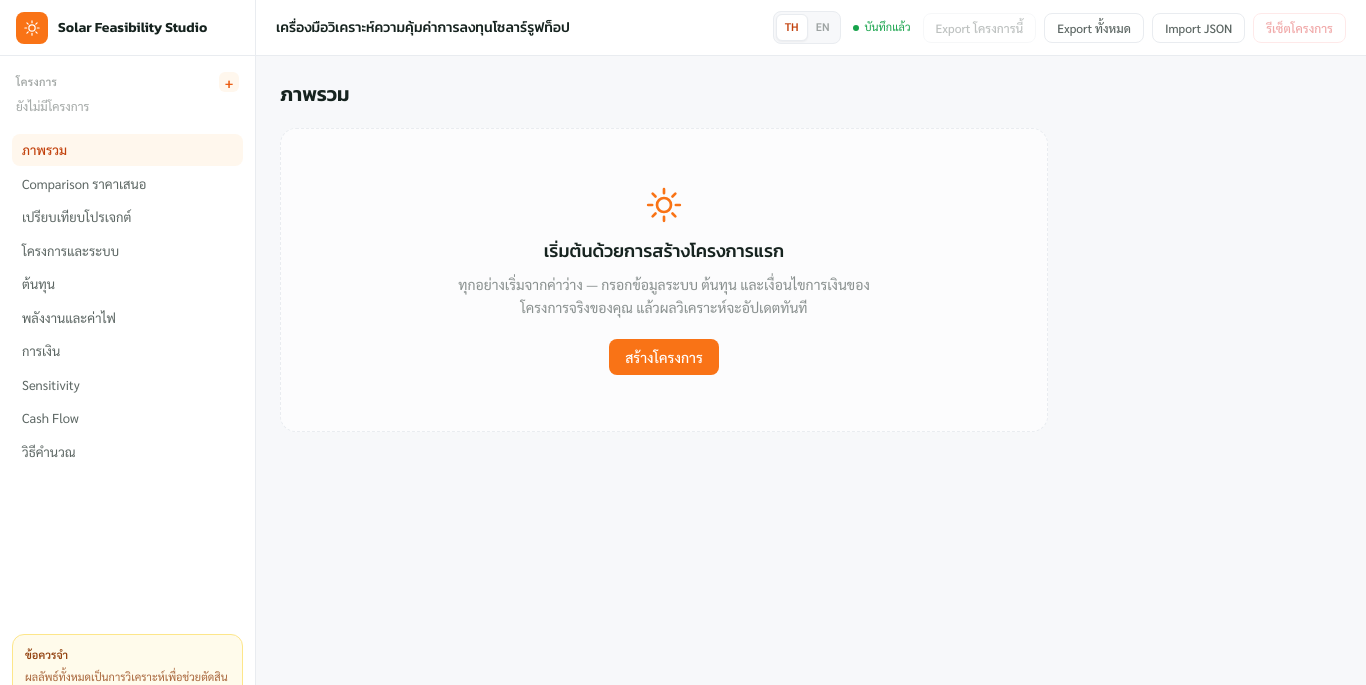
Test: energy page (Phase 4) › switching to interval mode shows the 12-month profile table
Click the button "สร้างโครงการ" at (664, 356), box top-left (609, 338), bottom-right (719, 374)
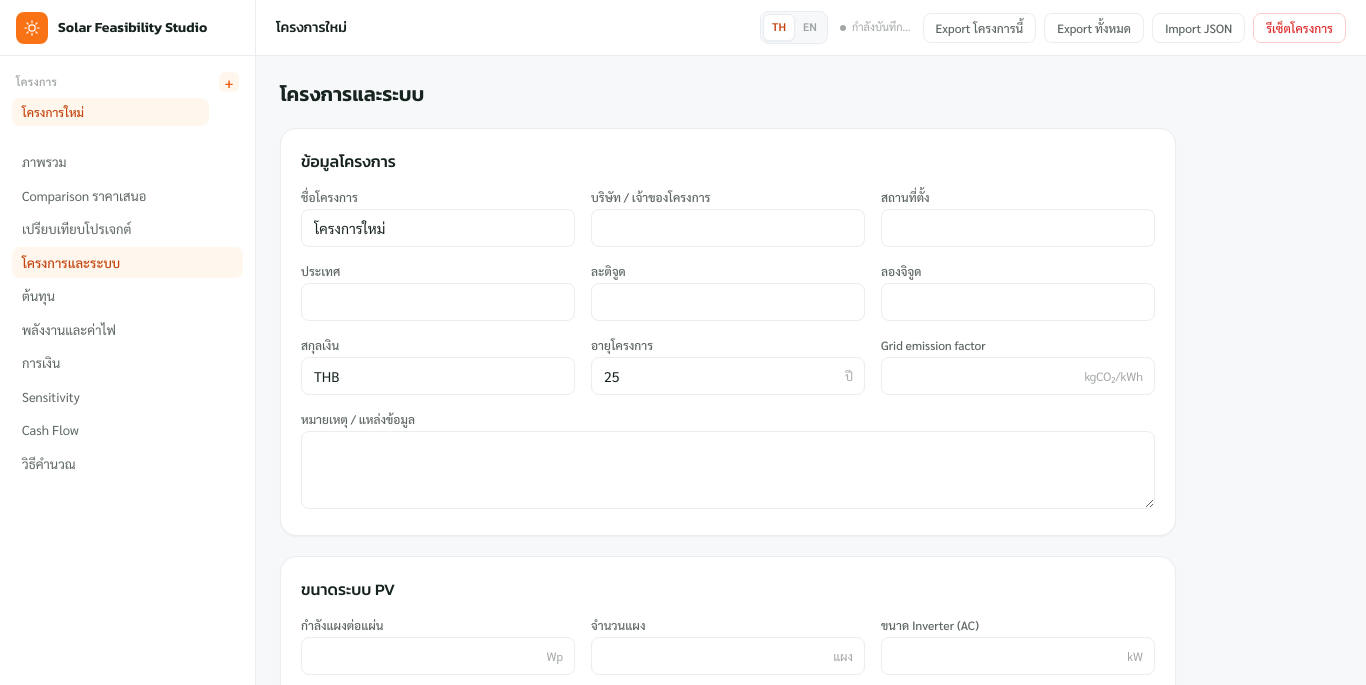
Click the link "พลังงานและค่าไฟ" at (69, 329), box top-left (22, 320), bottom-right (116, 338)
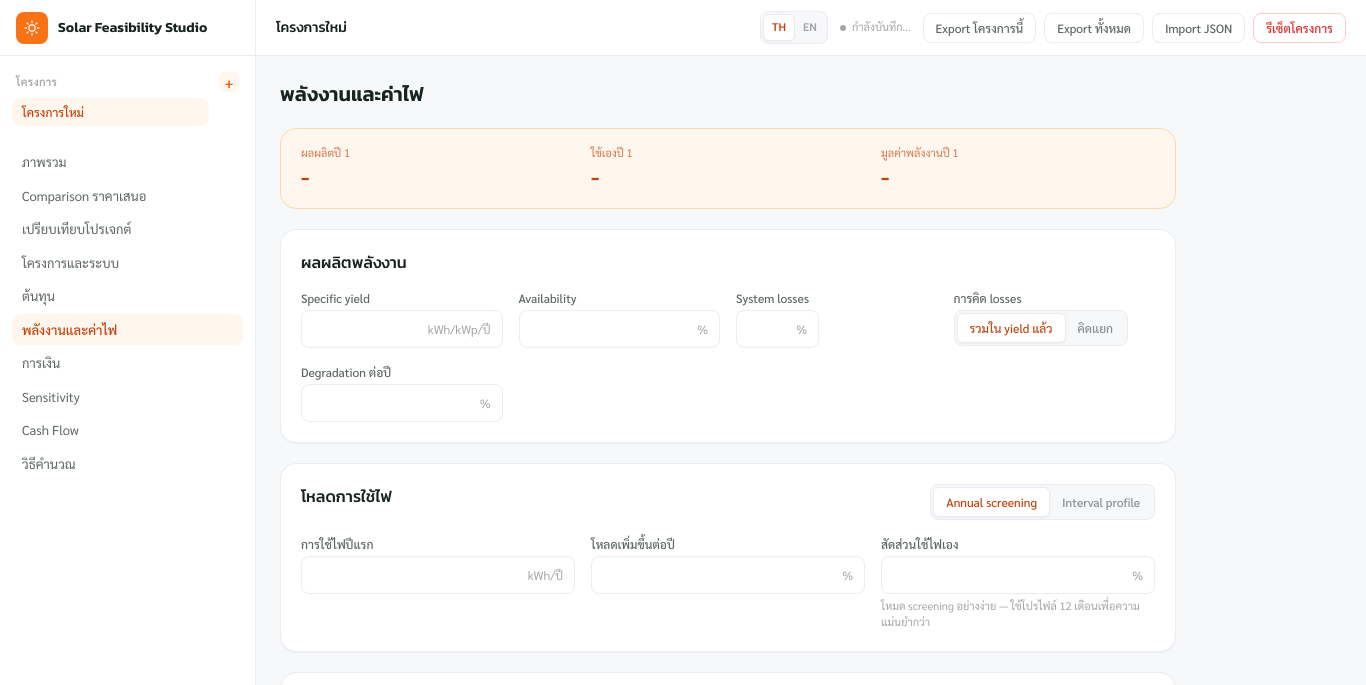
Click the button "Interval profile" at (1101, 502), box top-left (1050, 486), bottom-right (1152, 516)
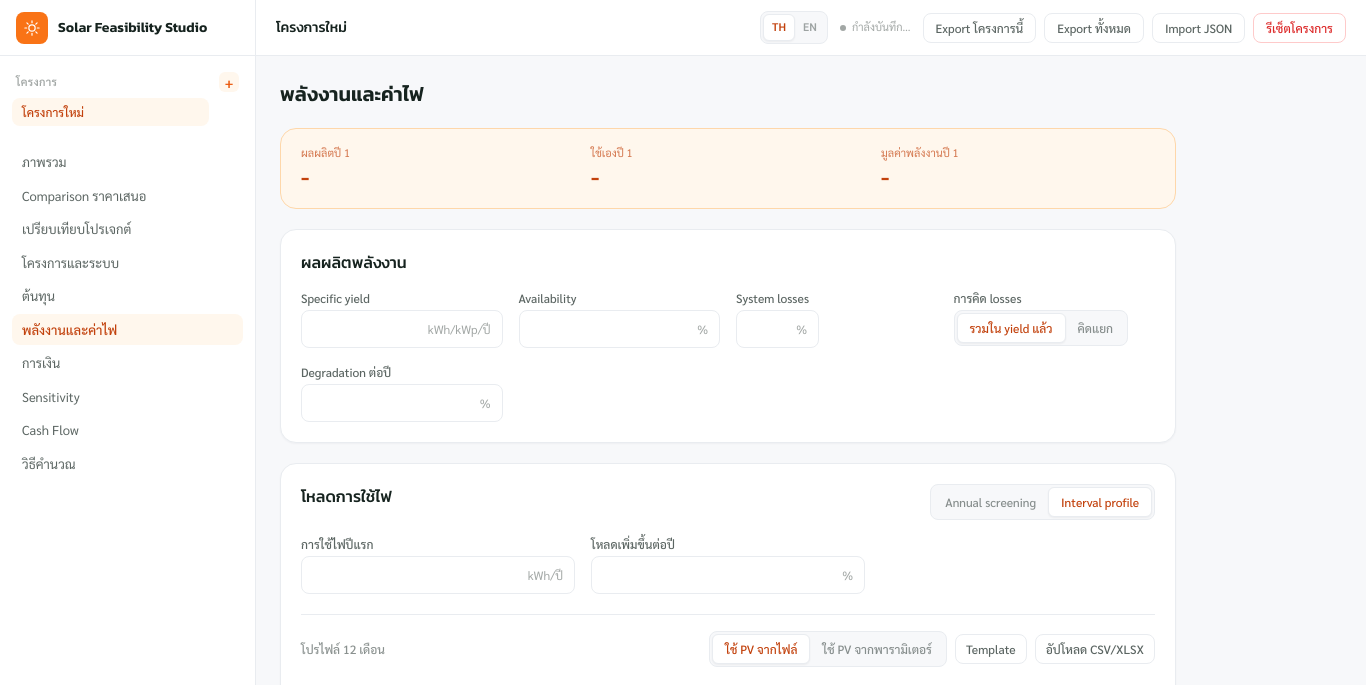
Expected: the text "โปรไฟล์ 12 เดือน" is shown, top-left (301, 640), bottom-right (385, 656)
Expected: the button "ใช้ PV จากไฟล์" is shown, top-left (712, 634), bottom-right (810, 664)
